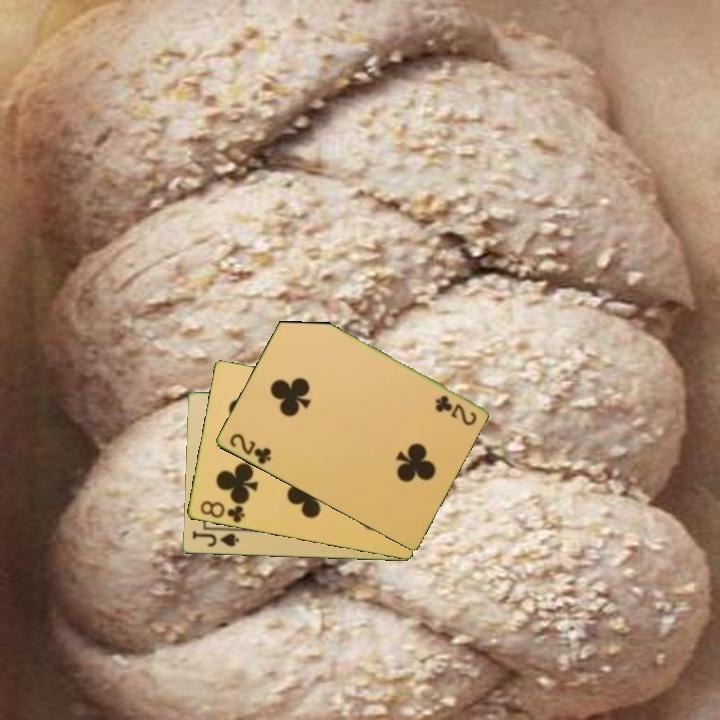2c: (225, 430, 274, 468), (431, 391, 479, 428)
8c: (196, 497, 247, 526)
Js: (189, 528, 241, 550)
